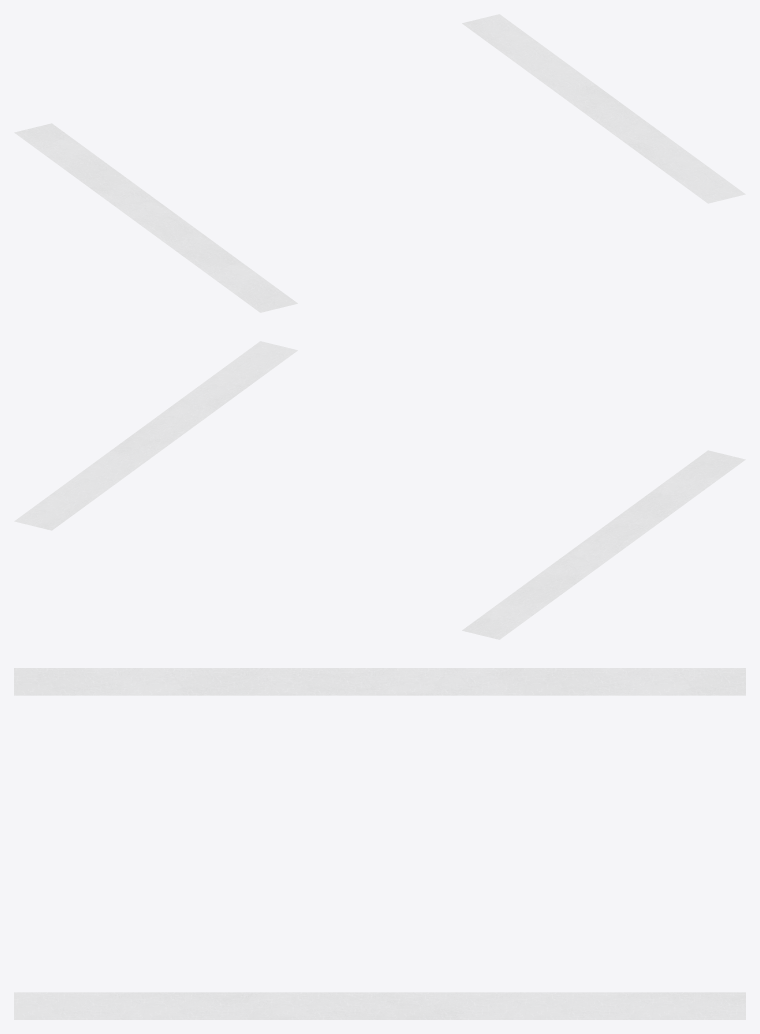
File: touchdown_point_1.gltf
3 renders of one model, top to bottom at view 1: azimuth 30°, elevation 25°; view 2: azimuth 150°, elevation 25°; view 3: azimuth 270°, elevation 25°, orthographic. The views are drawn at different scales.
Parts seen in each view (by area): view 1: touchdown_point_1; view 2: touchdown_point_1; view 3: touchdown_point_1.
Boxes of the visible parts, box(x1,y1,x2,y2) form: touchdown_point_1: box(14, 14, 745, 312); touchdown_point_1: box(14, 341, 745, 639); touchdown_point_1: box(14, 668, 745, 1019).
Size of the model in its own units: 25.6 by 0 by 22.5.
